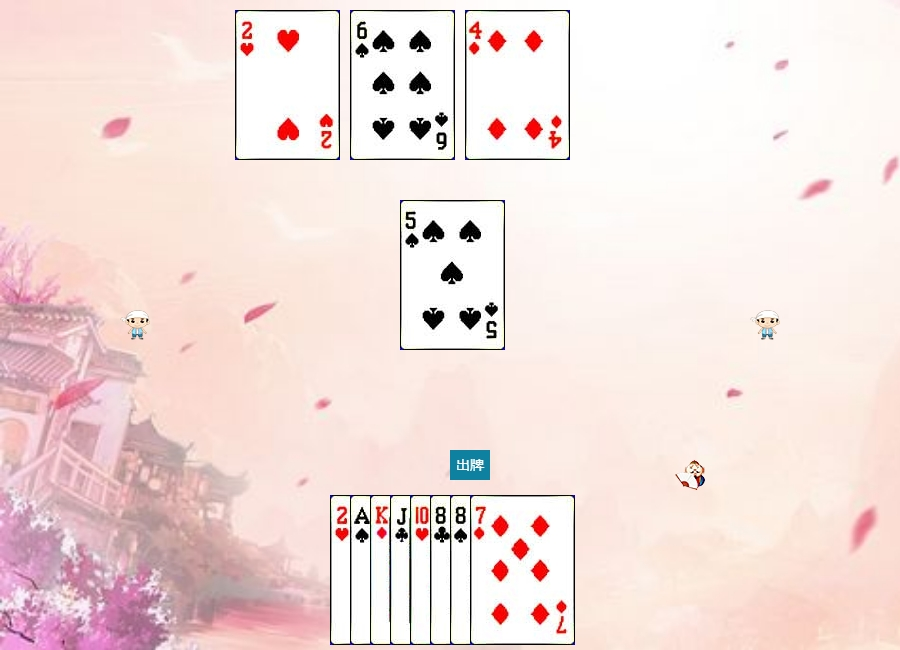10~3: (410, 495, 515, 645)
11~2: (390, 495, 495, 645)
13~1: (370, 495, 475, 645)
14~4: (350, 495, 455, 645)
15~3: (235, 10, 340, 160), (330, 495, 435, 645)
4~1: (465, 10, 570, 160)
5~4: (400, 200, 505, 350)
6~4: (350, 10, 455, 160)
7~1: (470, 495, 575, 645)
8~2: (430, 495, 535, 645)
8~4: (450, 495, 555, 645)
